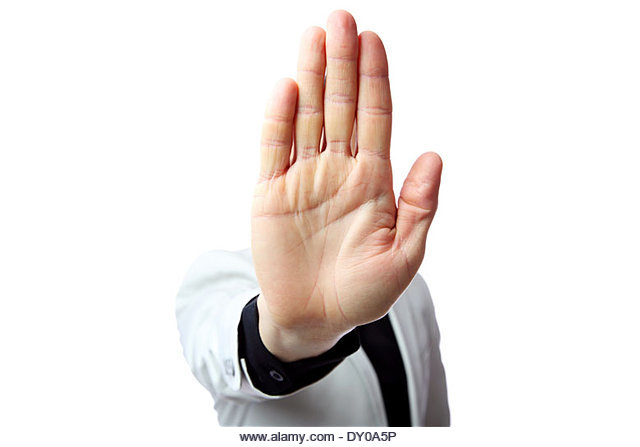non-diseased: (258, 10, 438, 342)
